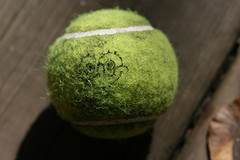tennis ball: (39, 7, 181, 141)
